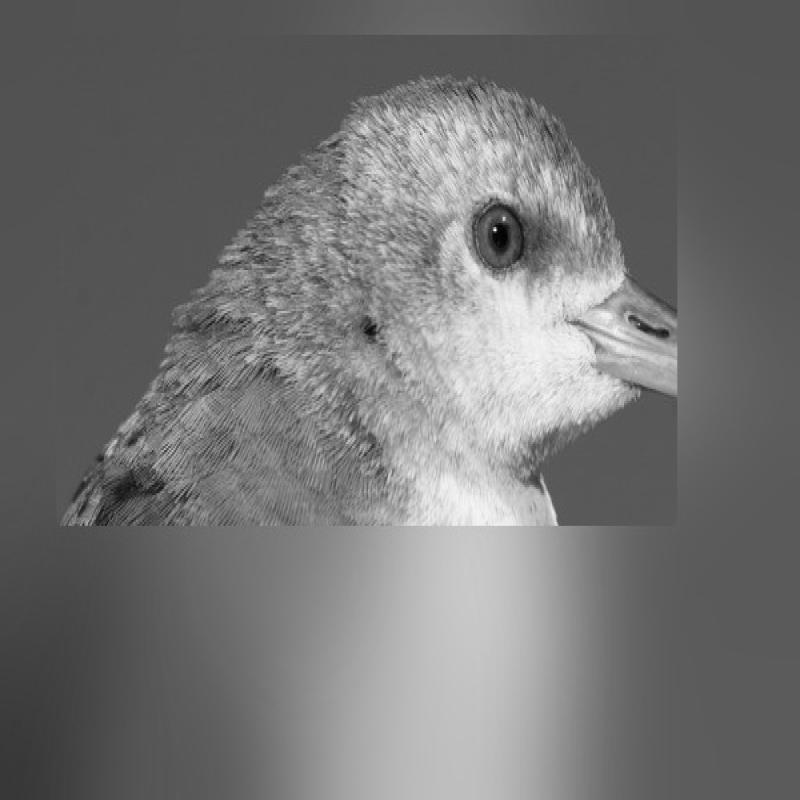little crake: (57, 69, 685, 534)
